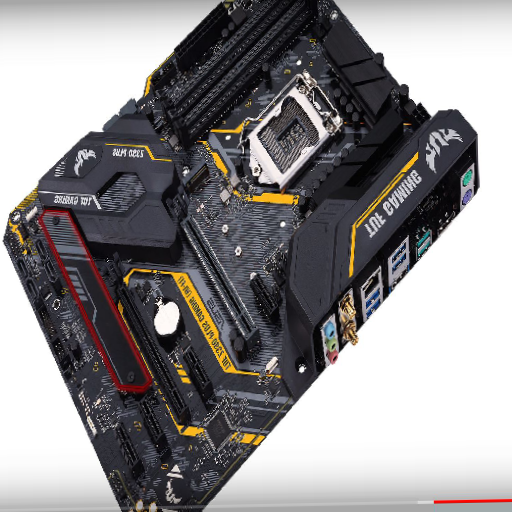CPU: (250, 75, 339, 186)
GPU: (164, 184, 261, 351), (100, 250, 191, 420)
MOTHERBOARD: (1, 7, 479, 512)
RAM: (155, 1, 319, 145)
SSD: (183, 160, 207, 193)
